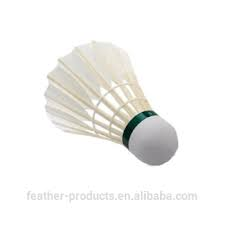shuttle: (41, 47, 179, 166)
